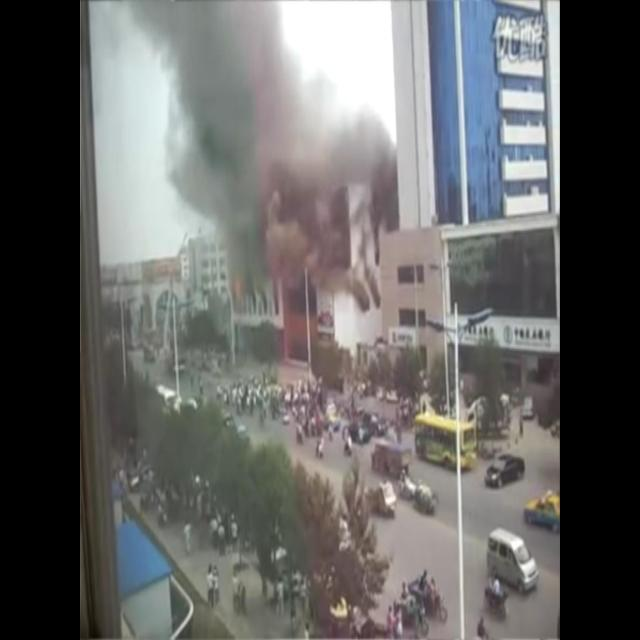smoke: (133, 0, 395, 289)
